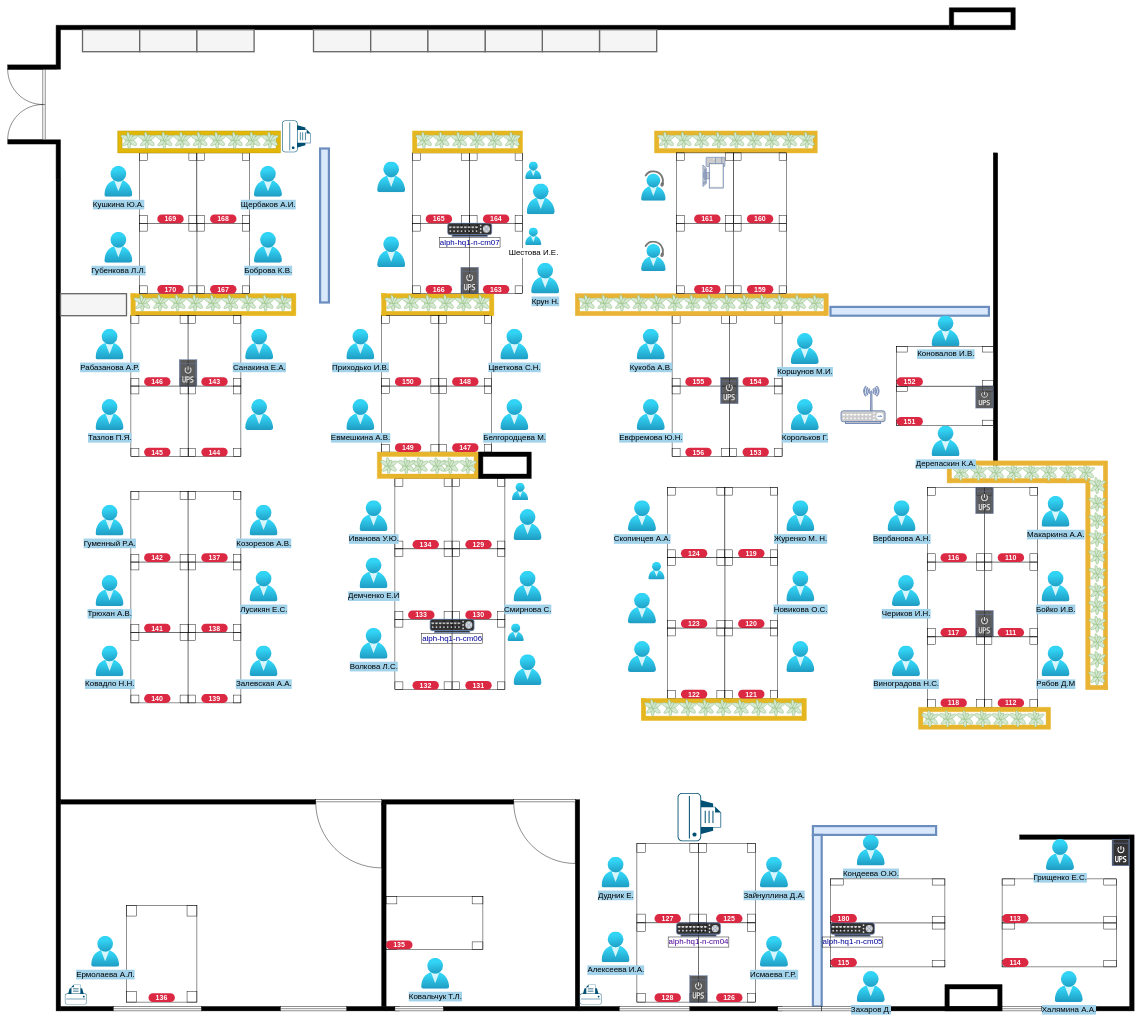
Some shapes in this 1142 by 1023 pixel diagram are drawn without their labels. Here are the shapes that lost their labels. From the top down, the centre of each, then its label:
(296,136): msk-af-pr02
(862,404): alph-hq1-n-wf01
(699,817): msk-af-pr01
